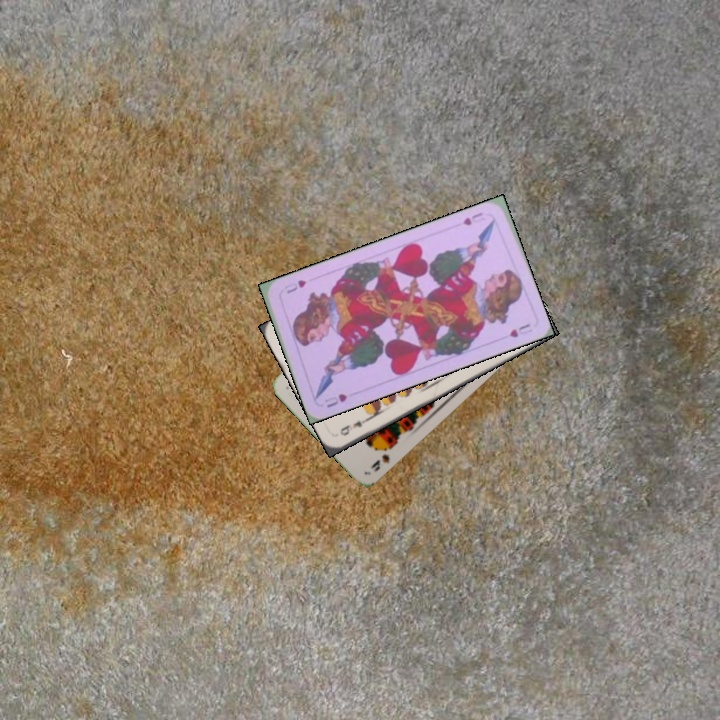E9: (336, 413, 372, 438)
HU: (321, 389, 349, 410), (459, 208, 487, 228)
S9: (367, 440, 397, 474)
